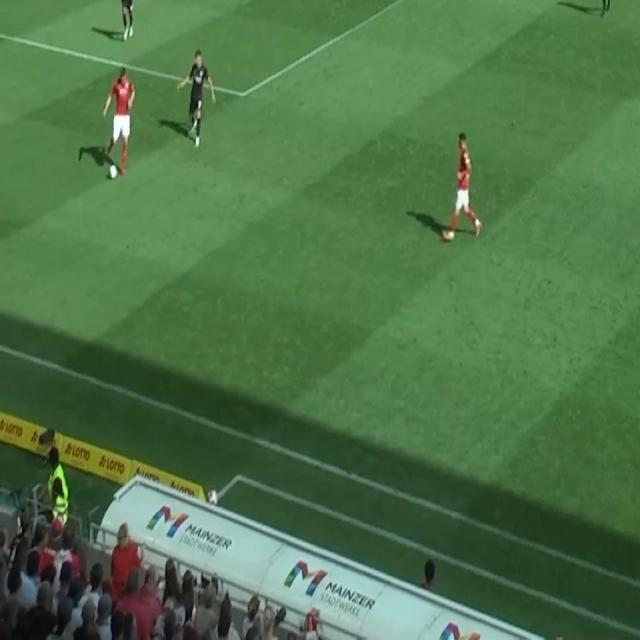ball: (109, 164, 118, 180)
